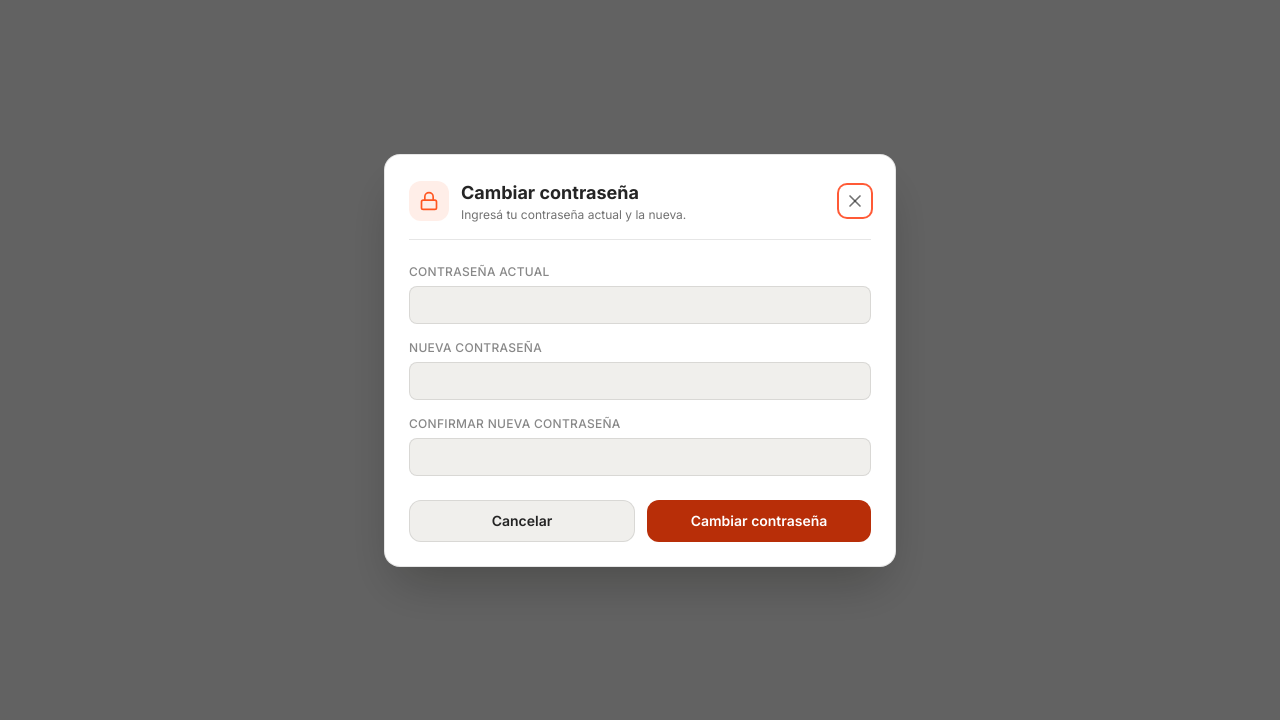
Test: ChangePasswordModal › wrong old_password shows error under field
In the 1st password field: (640, 304) 409,286 -> 871,324, type "WrongPass!"
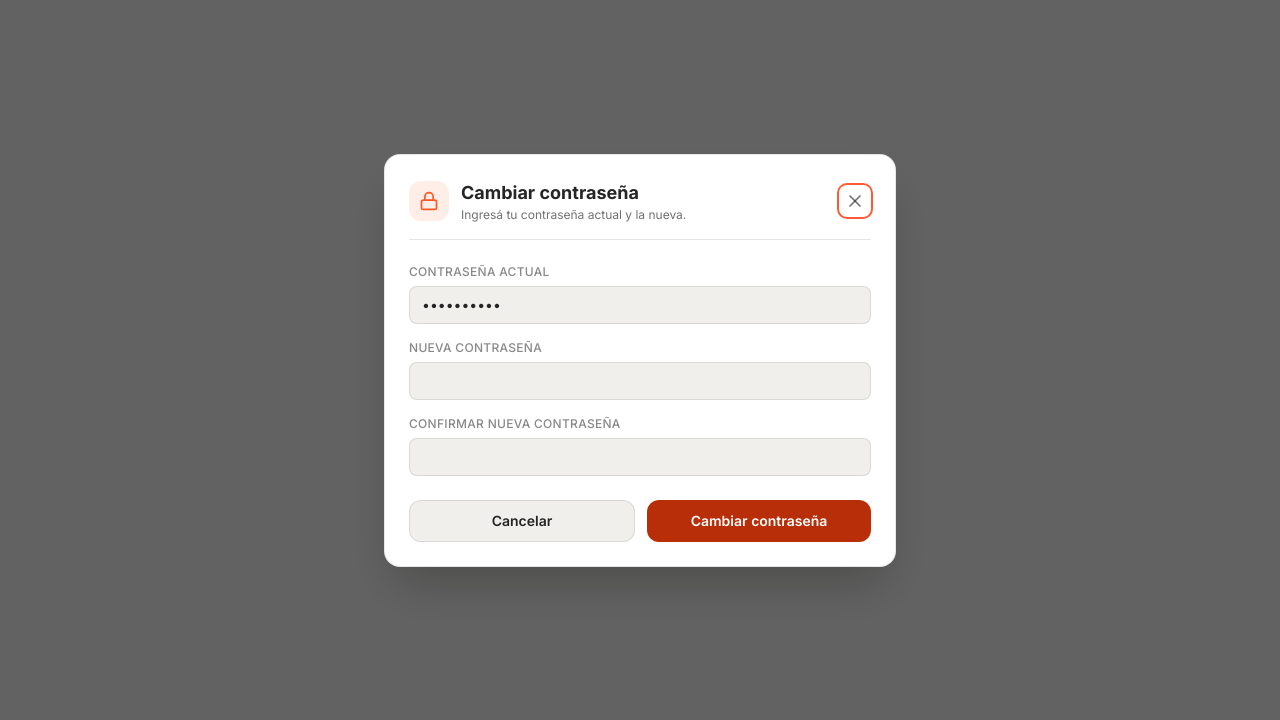
In the 2nd password field: (640, 380) 409,362 -> 871,400, type "NewPass123!"
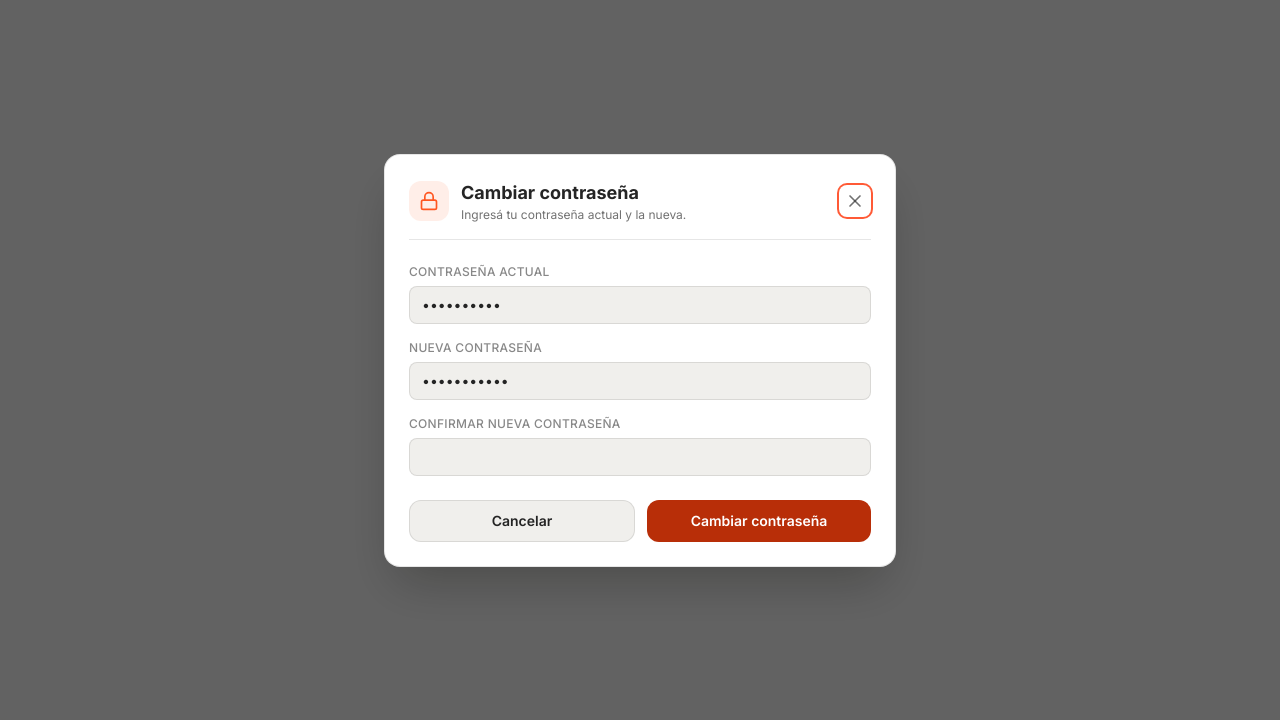
In the password field below "Confirmar nueva contraseña": (640, 456) 409,438 -> 871,476, type "NewPass123!"
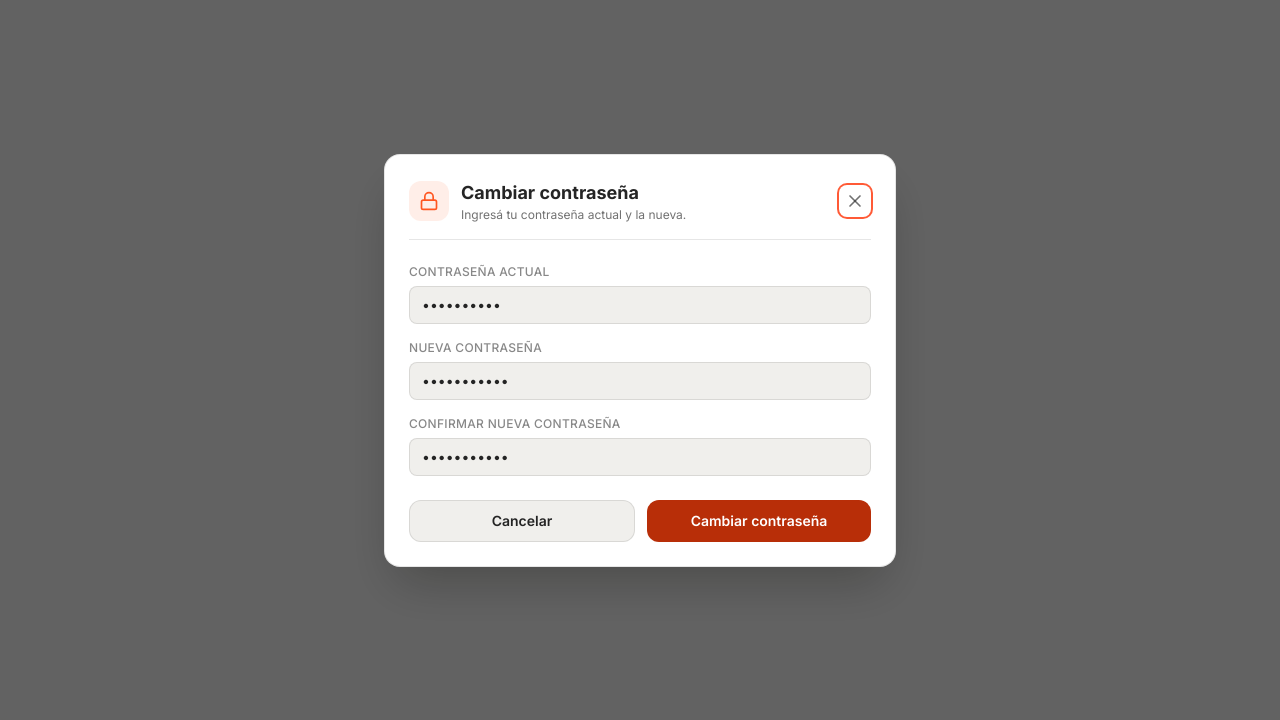
Click the button "Cambiar contraseña": (759, 520) 647,500 -> 871,542
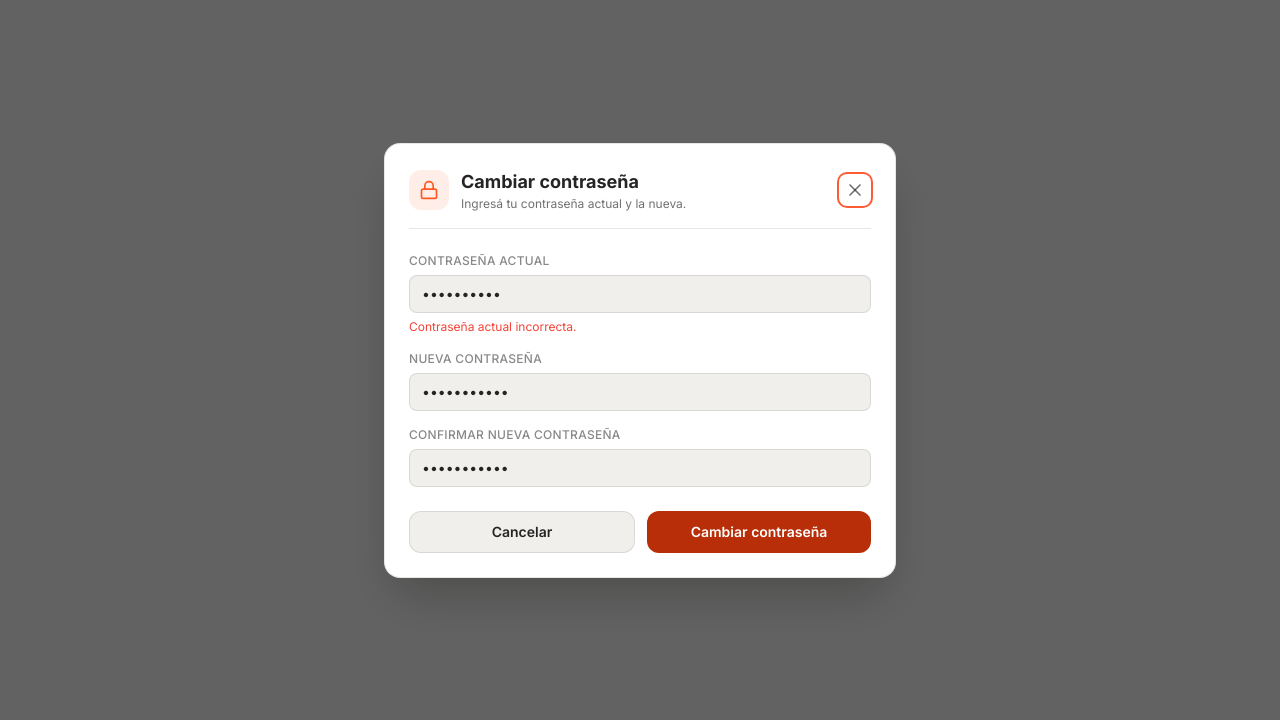
Result: the text "Contraseña actual incorrecta." is shown at 409,318 -> 576,334
